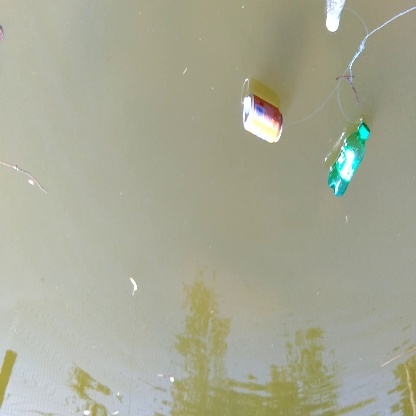bottle: (322, 120, 370, 200), (237, 90, 292, 156)
